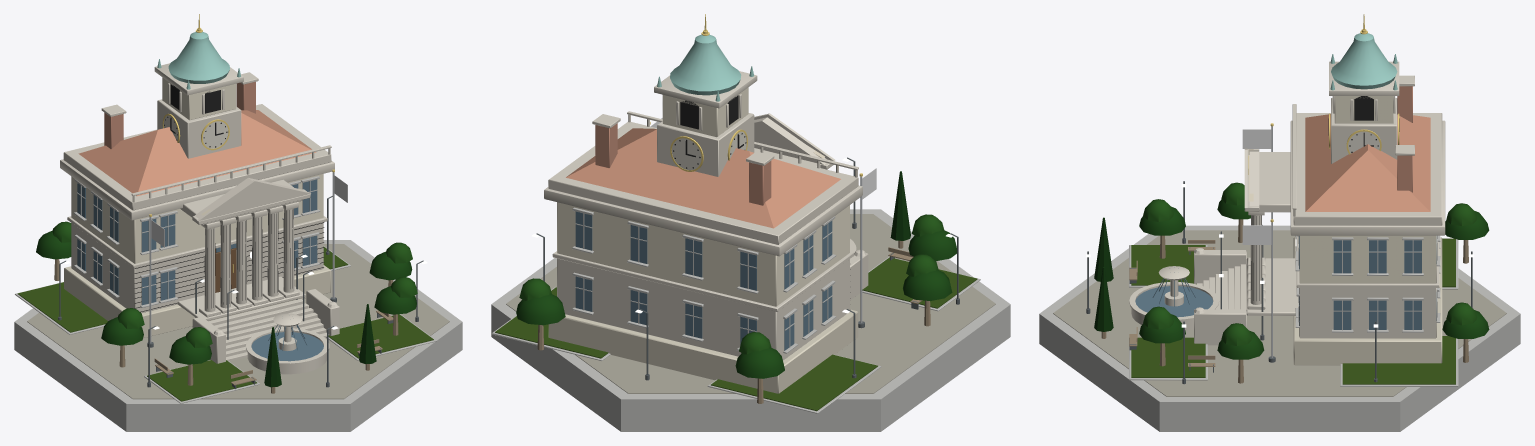
The model's file is cityHall_med.glb.
3 views of the same model, side by side, from view 1: azimuth 30°, elevation 25°; view 2: azimuth 150°, elevation 25°; view 3: azimuth 270°, elevation 25° (orthographic). The views are drawn at different scales.
Parts seen in each view (by area): view 1: stone, wall_concrete, pavers, roof_tile, leaf, turf, plaster, glass, dark, copper, wood, steel_dark (+4 smaller); view 2: stone, wall_concrete, pavers, plaster, roof_tile, leaf, turf, glass, copper, brick, steel_dark, paint (+2 smaller); view 3: stone, wall_concrete, pavers, roof_tile, leaf, turf, plaster, glass, copper, wood, banner, steel_dark (+3 smaller).
Part boxes in pixels (bbox=[...]): stone: bbox=[60, 63, 339, 374]; wall_concrete: bbox=[14, 176, 462, 431]; pavers: bbox=[27, 244, 449, 399]; roof_tile: bbox=[78, 110, 316, 196]; leaf: bbox=[36, 221, 417, 387]; turf: bbox=[17, 246, 433, 401]; plaster: bbox=[71, 77, 323, 263]; glass: bbox=[77, 179, 323, 361]; dark: bbox=[134, 84, 324, 312]; copper: bbox=[157, 32, 240, 89]; wood: bbox=[54, 248, 398, 393]; steel_dark: bbox=[58, 196, 423, 389]; stone: bbox=[544, 71, 868, 393]; wall_concrete: bbox=[491, 207, 1010, 431]; pavers: bbox=[506, 214, 995, 393]; plaster: bbox=[557, 87, 849, 306]; roof_tile: bbox=[566, 128, 840, 228]; leaf: bbox=[516, 171, 956, 378]; turf: bbox=[495, 257, 977, 411]; glass: bbox=[575, 211, 832, 350]; copper: bbox=[657, 34, 753, 101]; brick: bbox=[595, 123, 771, 205]; steel_dark: bbox=[536, 157, 959, 380]; paint: bbox=[671, 131, 746, 170]; stone: bbox=[1129, 61, 1445, 365]; wall_concrete: bbox=[1039, 225, 1520, 431]; pavers: bbox=[1053, 230, 1506, 396]; roof_tile: bbox=[1305, 114, 1430, 211]; leaf: bbox=[1094, 182, 1489, 359]; turf: bbox=[1131, 238, 1455, 384]; plaster: bbox=[1299, 96, 1436, 283]; glass: bbox=[1135, 236, 1436, 329]; copper: bbox=[1330, 33, 1397, 90]; wood: bbox=[1101, 219, 1468, 383]; banner: bbox=[1242, 129, 1271, 244]; steel_dark: bbox=[1086, 181, 1473, 384].
Size of the model in its own units: 21.3 by 18.6 by 24.6.
